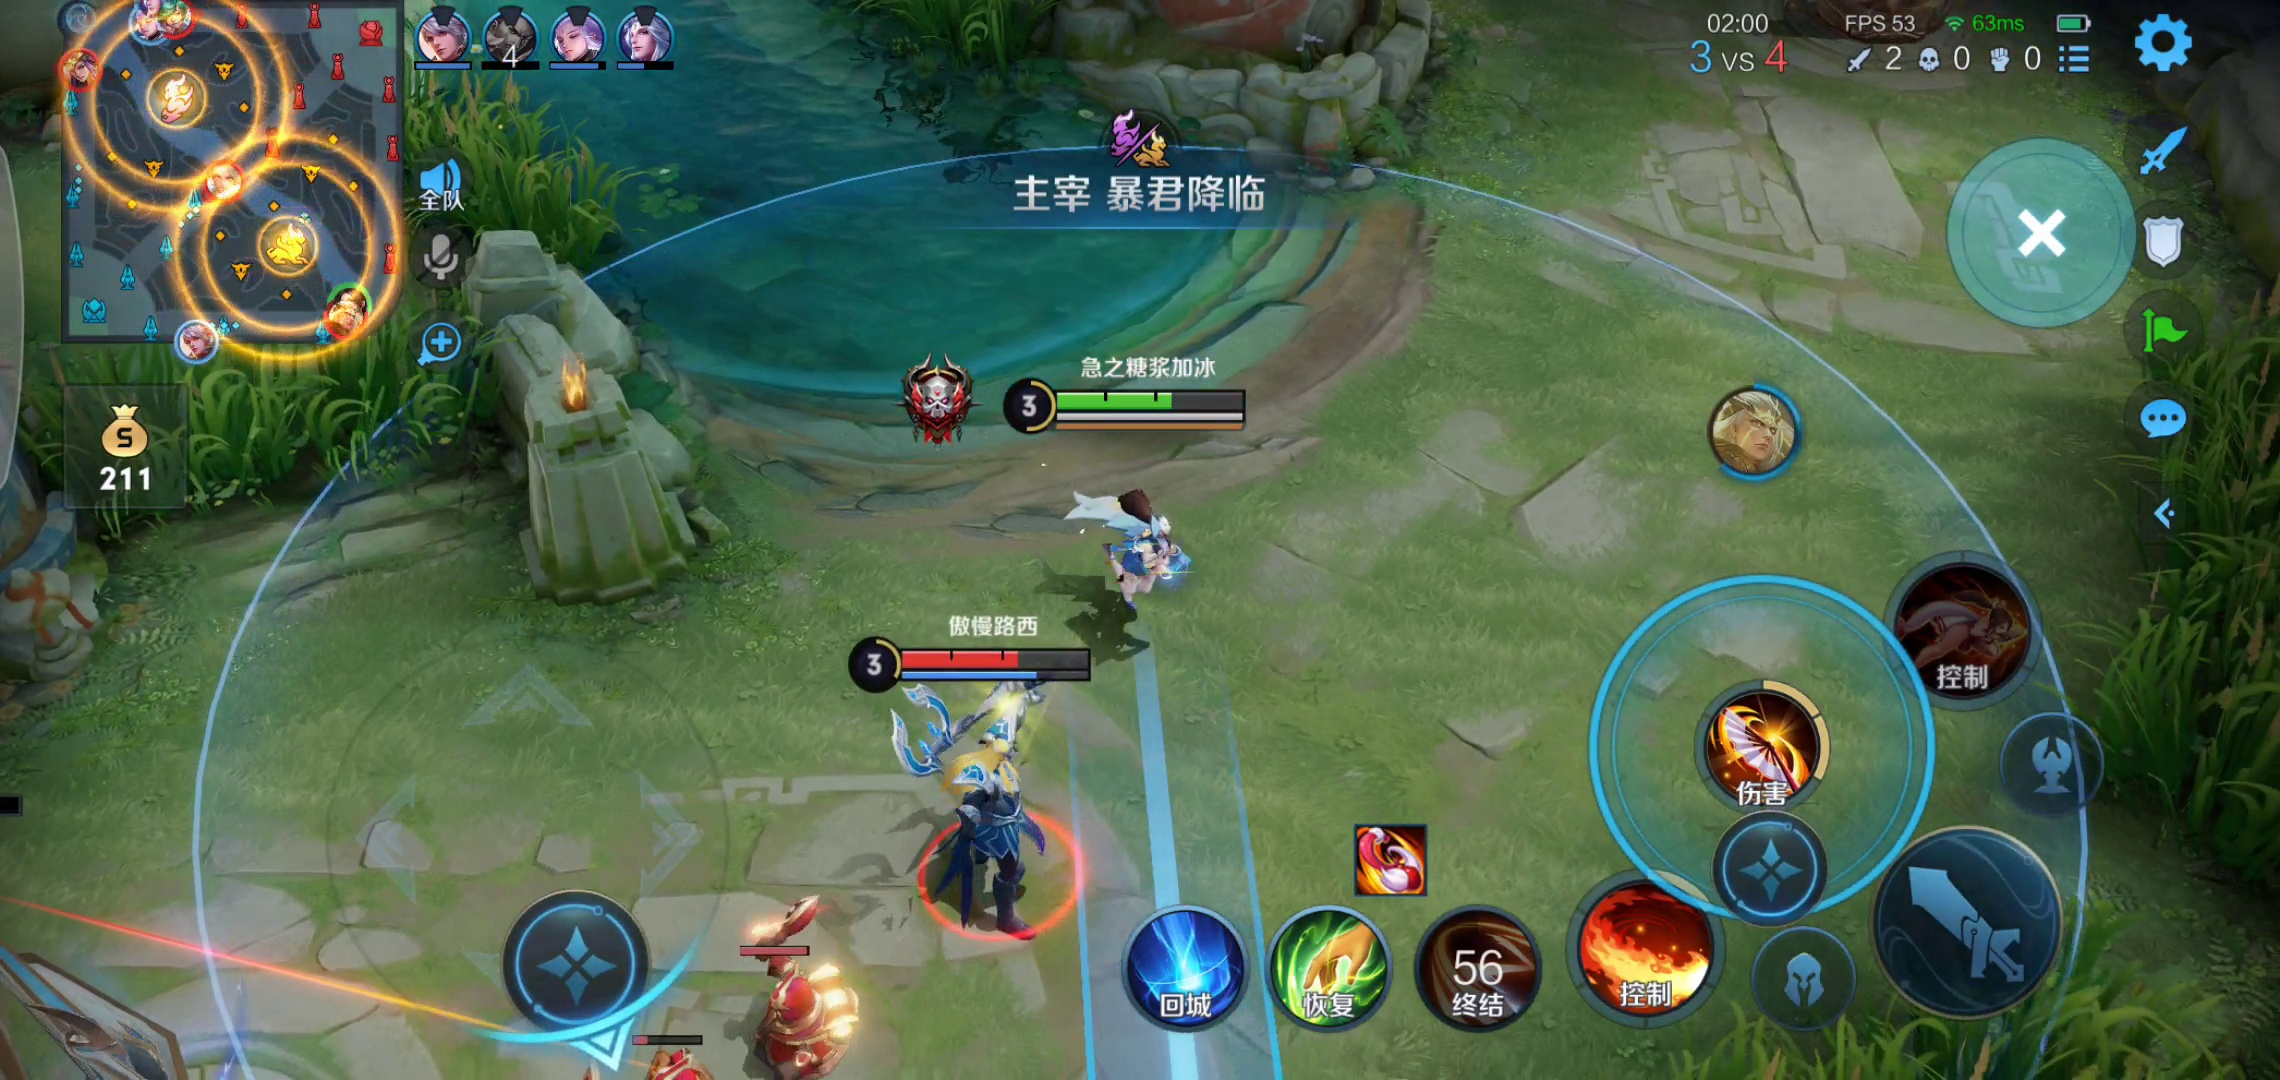grass: (2060, 327, 2280, 826), (1693, 952, 2263, 1080), (23, 336, 513, 483), (393, 68, 637, 301), (849, 1, 1031, 112)
hero: (886, 683, 1072, 943), (1057, 472, 1191, 622)
soldier: (740, 920, 872, 1080), (631, 1023, 710, 1080)
